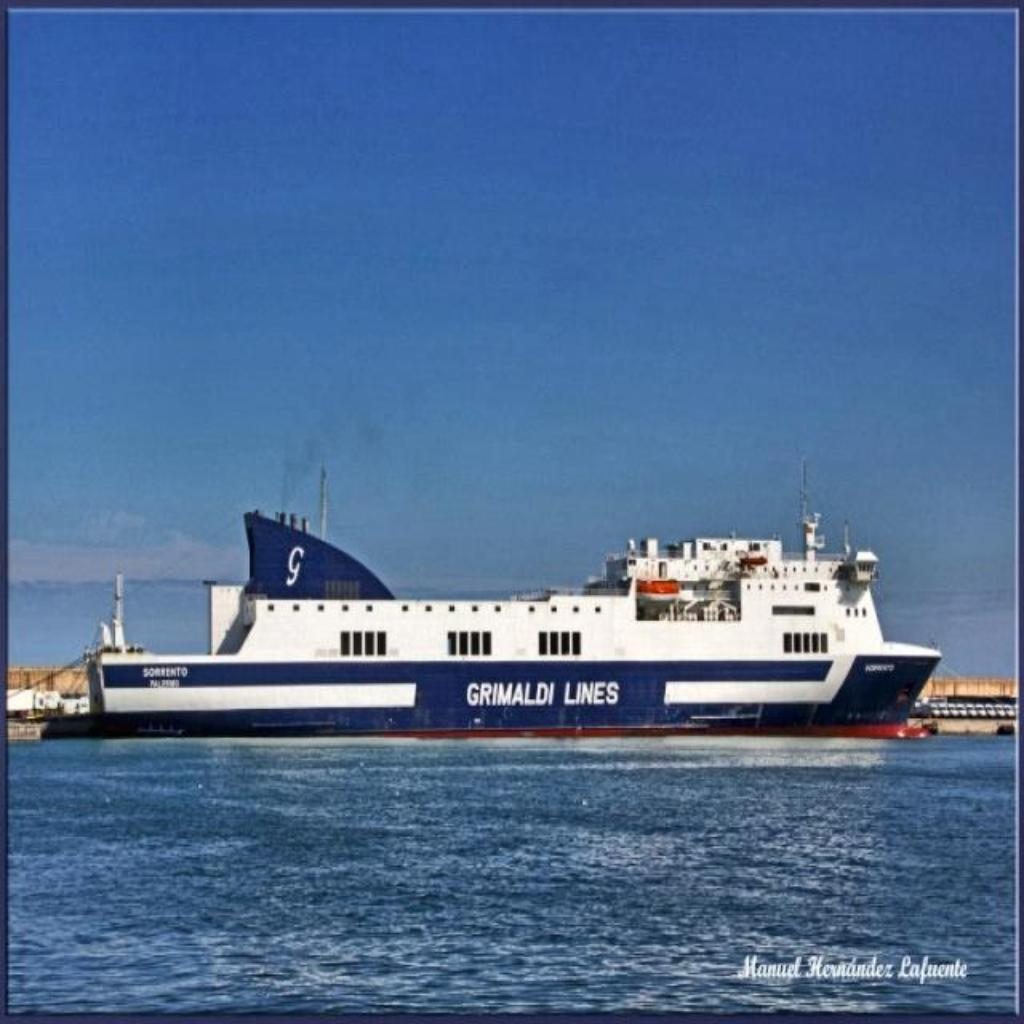PassengerShip: (83, 445, 951, 747)
